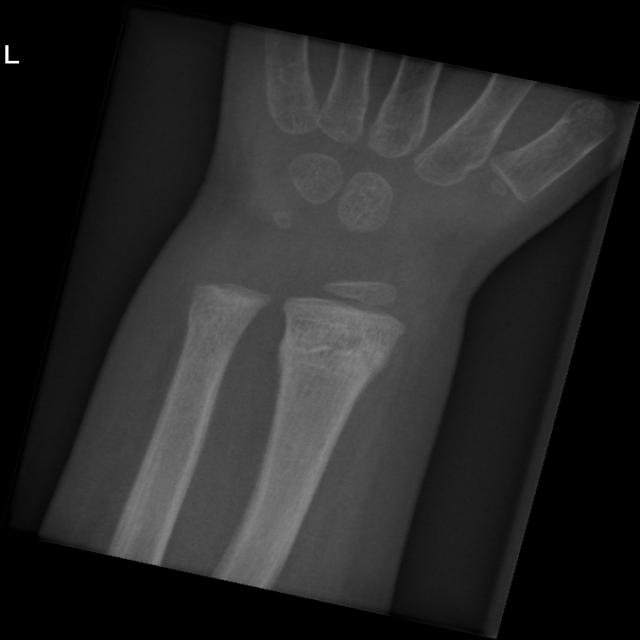radius fracture: (271, 300, 408, 440)
